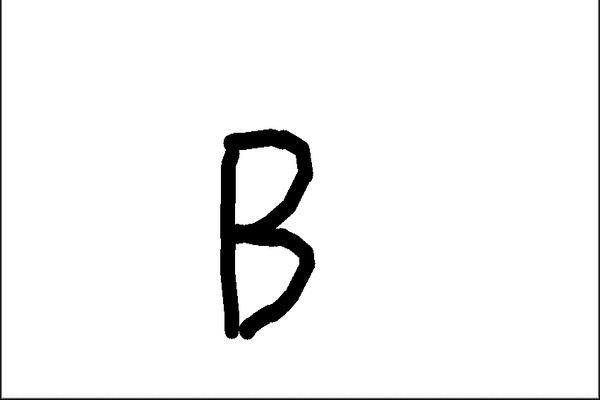B: (207, 118, 323, 346)
